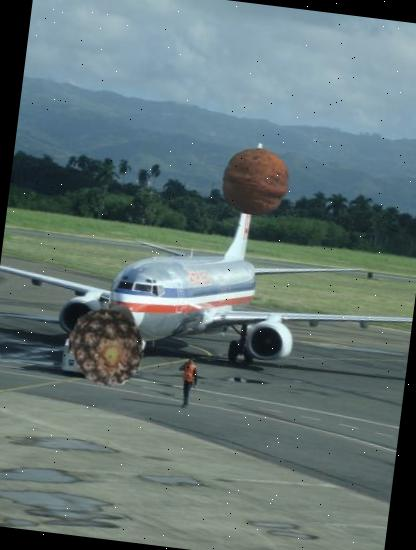Pineapple: (62, 302, 152, 392)
Walnut: (218, 144, 294, 220)
